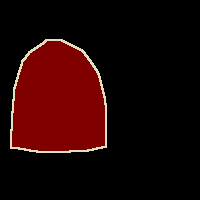hat: (10, 40, 106, 152)
